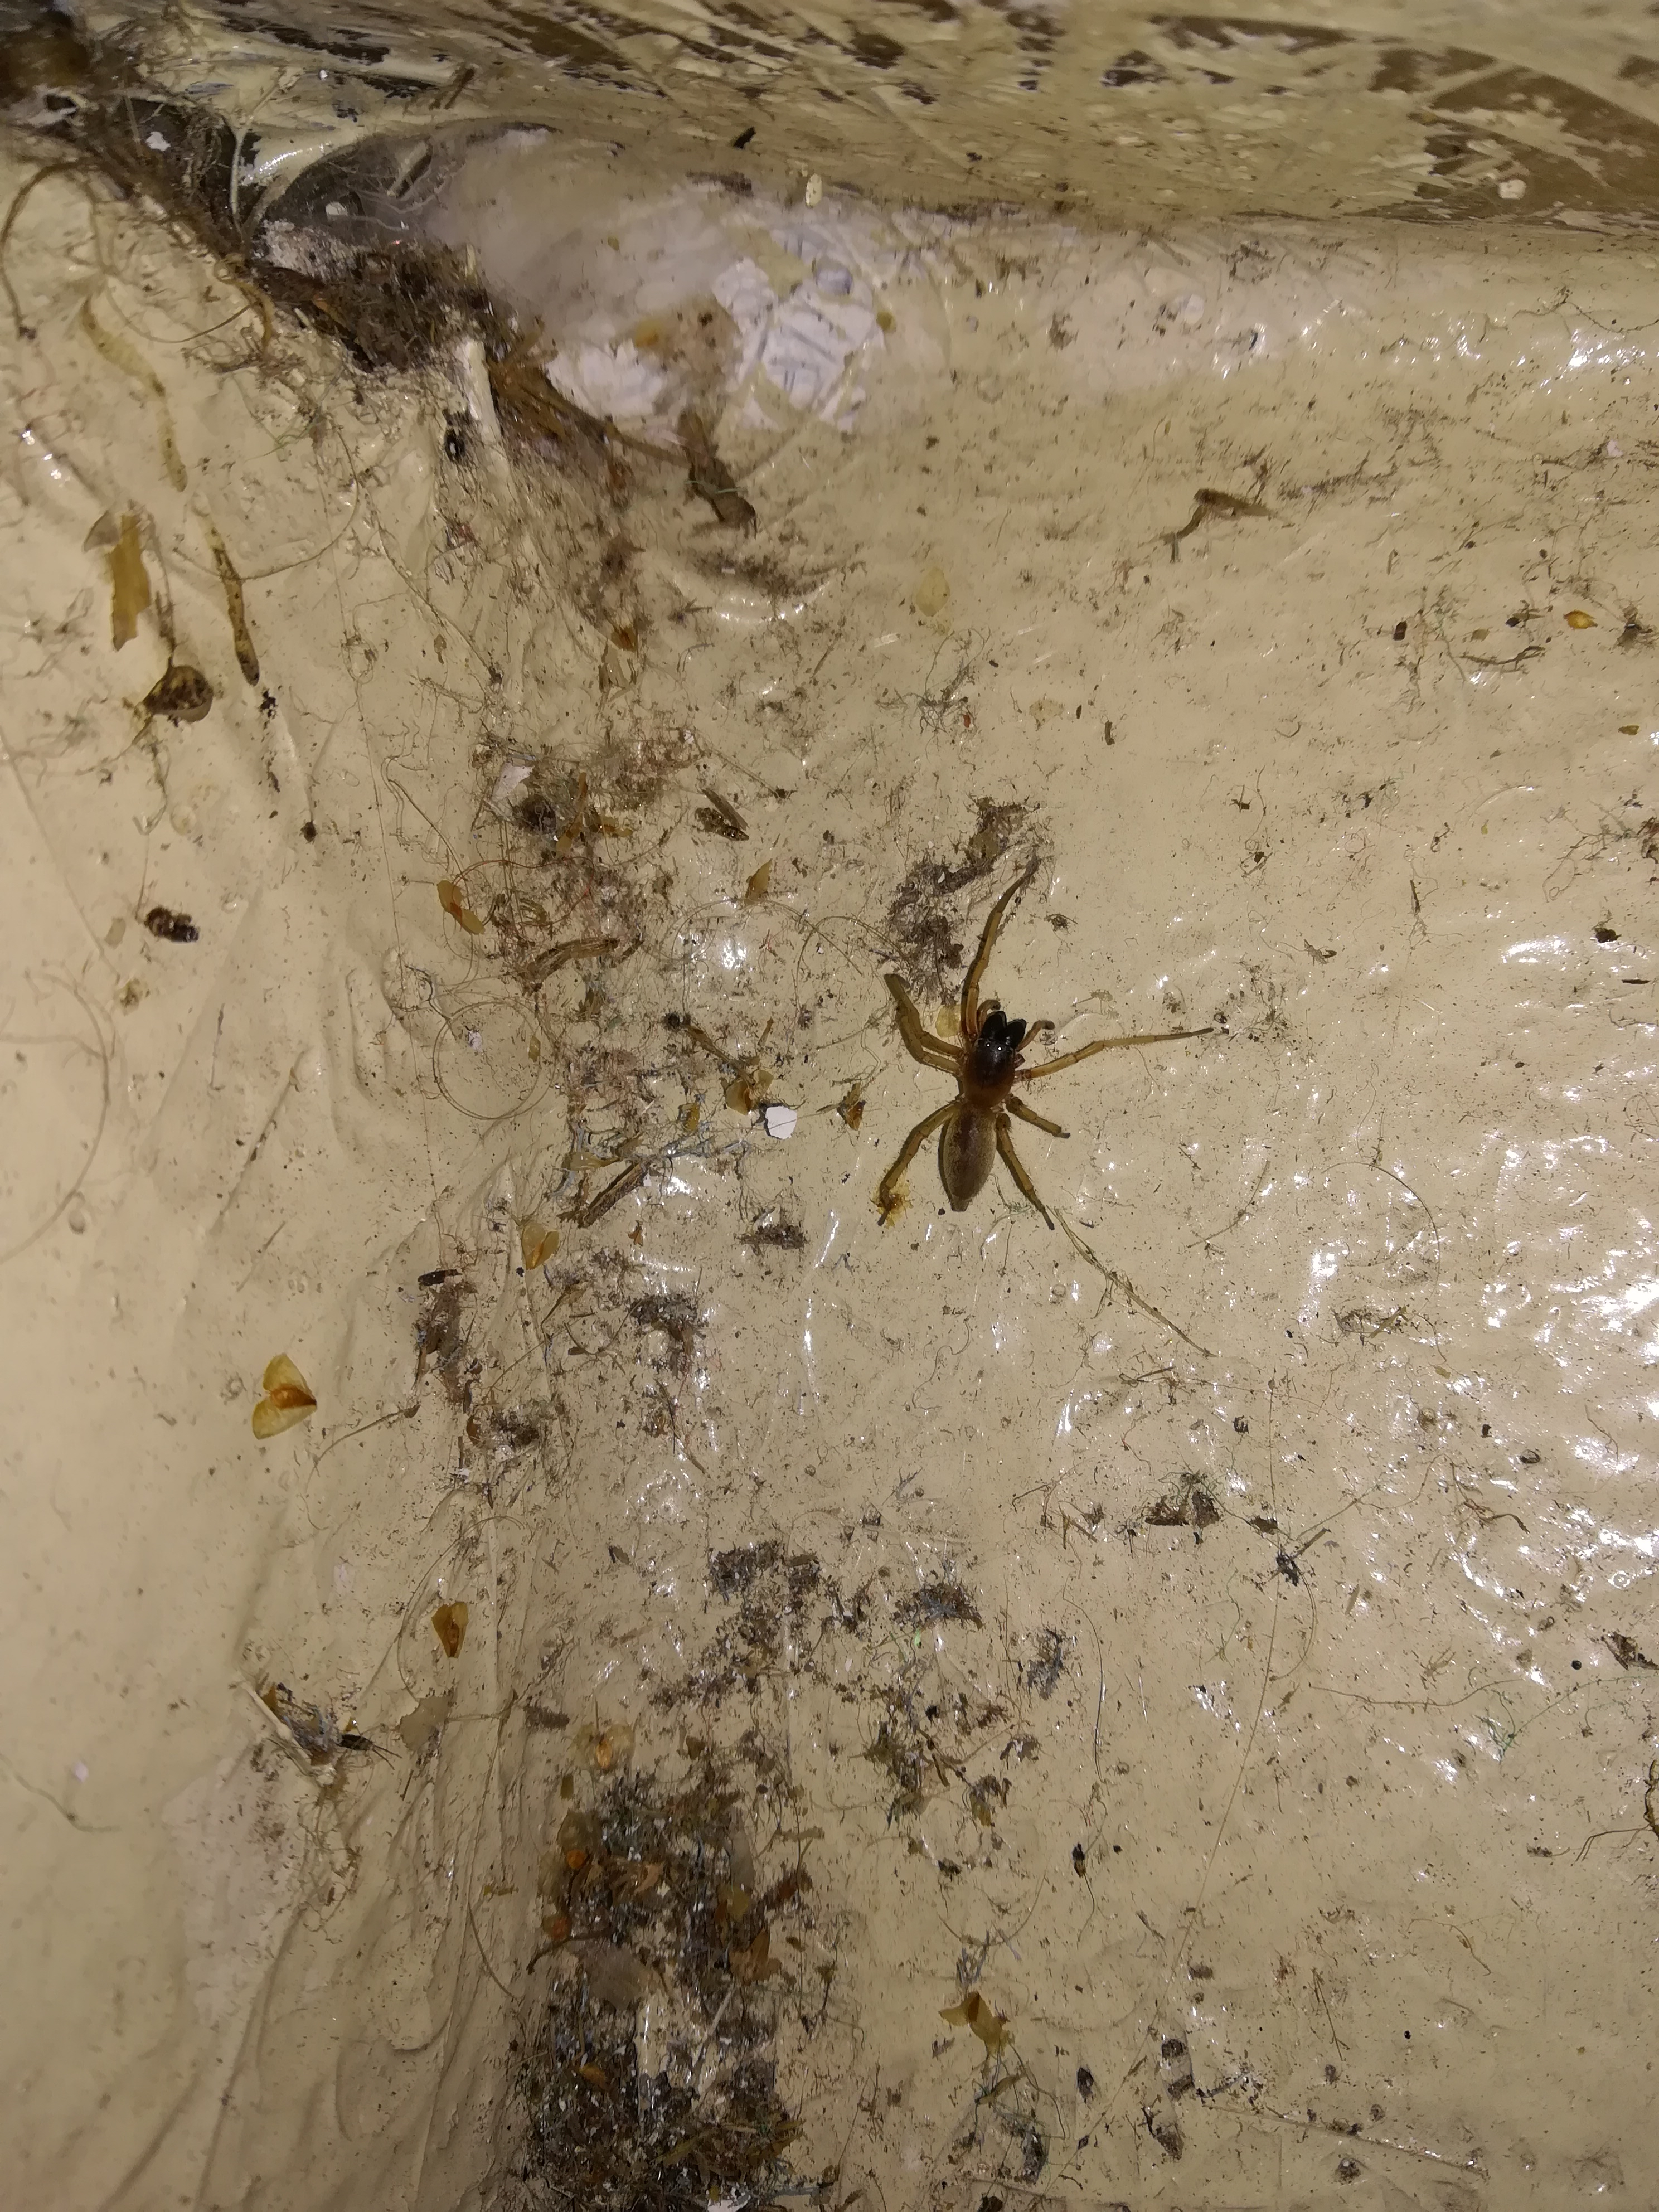spider: (791, 827, 1263, 1289)
